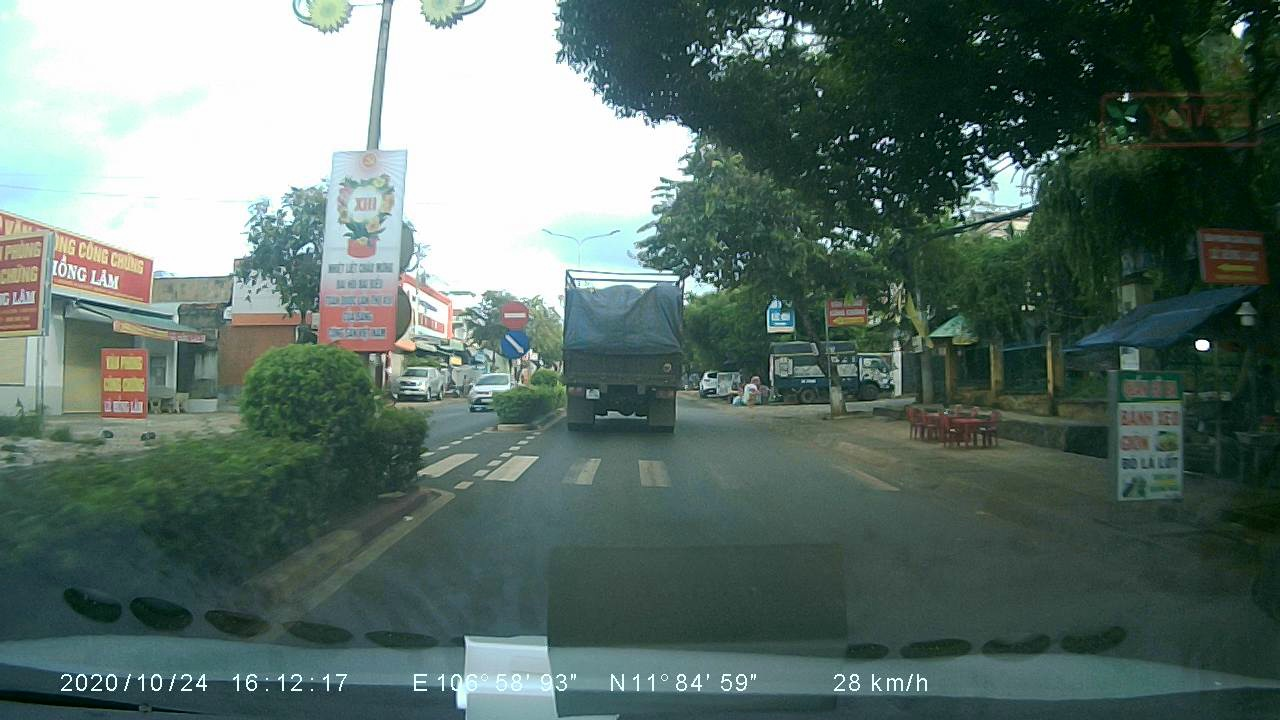Cam di nguoc chieu: (496, 297, 529, 330)
Huong di phai re phai: (498, 328, 531, 360)
